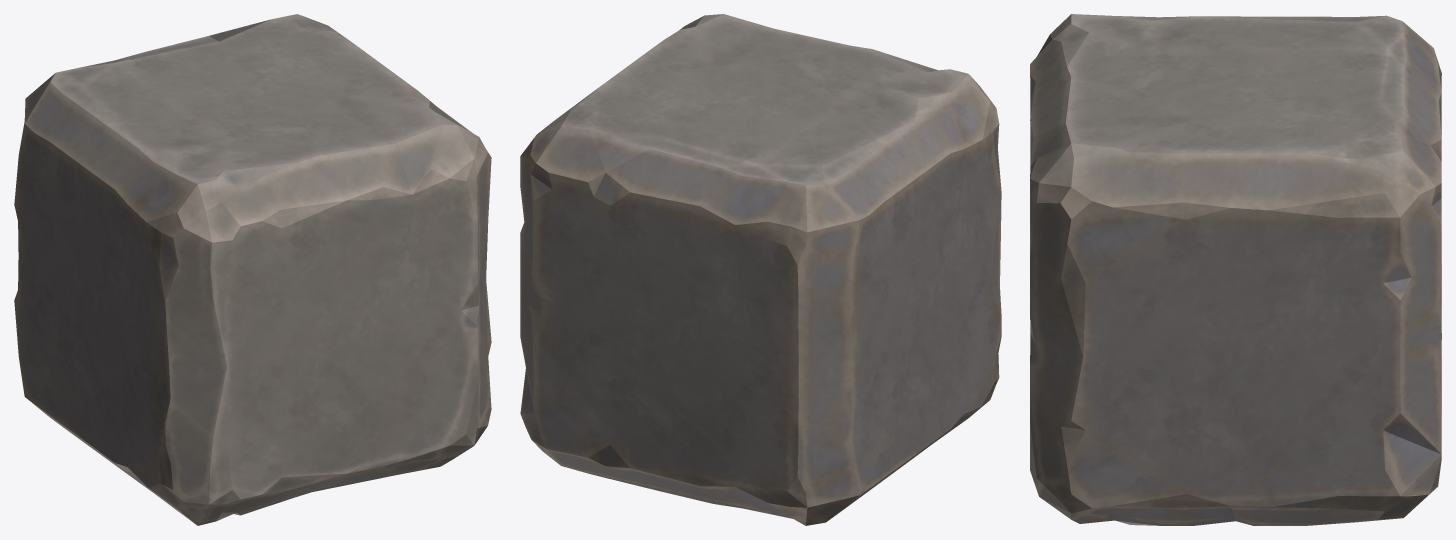
File: Ruined_Cube01.fbx
3 renders of one model, left to right at view 1: azimuth 30°, elevation 25°; view 2: azimuth 150°, elevation 25°; view 3: azimuth 270°, elevation 25°, orthographic. The views are drawn at different scales.
Visible parts, largest first — view 1: Ruined_Cube_L2; view 2: Ruined_Cube_L2; view 3: Ruined_Cube_L2.
Part boxes in pixels (left/top/right/bottom): Ruined_Cube_L2: left=14, top=14, right=491, bottom=525; Ruined_Cube_L2: left=520, top=14, right=1001, bottom=525; Ruined_Cube_L2: left=1030, top=14, right=1441, bottom=525.
Size of the model in its own units: 200 by 200 by 200.
Materials: 1 (1 with a texture image).
